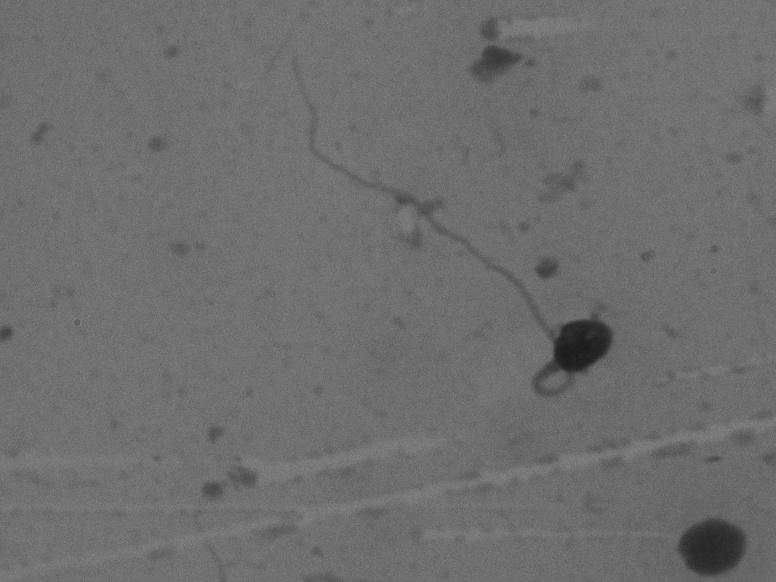Abnormal: (234, 50, 672, 420)
